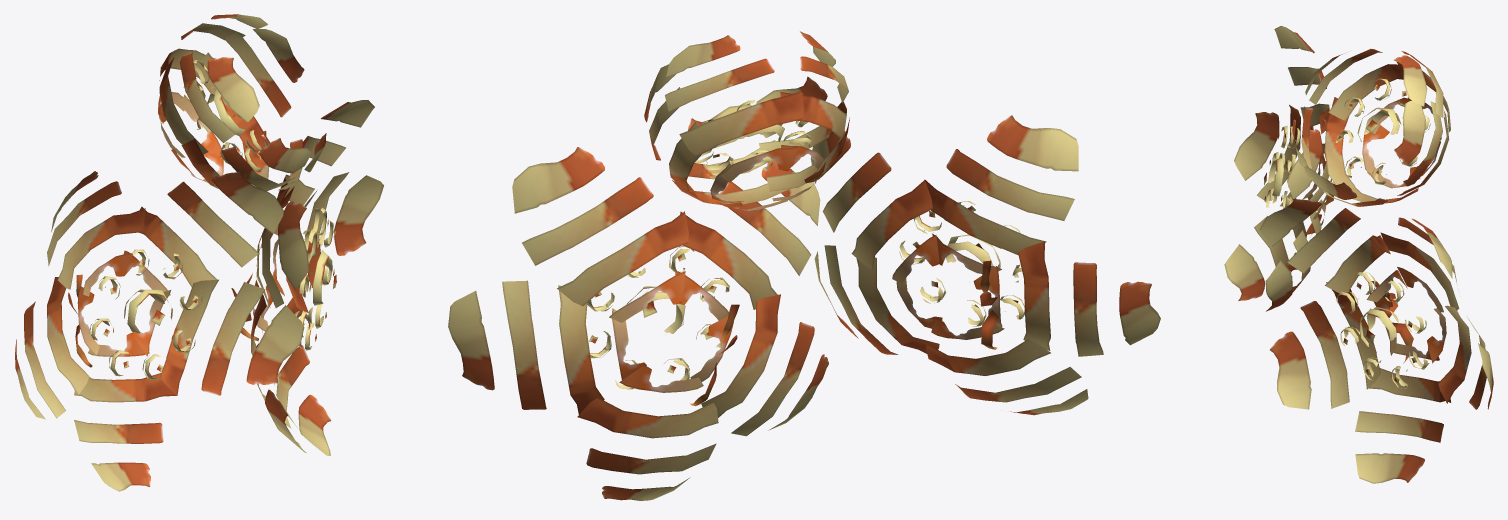
File: pm0470_00_Rig.fbx
3 renders of one model, left to right at view 1: azimuth 30°, elevation 25°; view 2: azimuth 150°, elevation 25°; view 3: azimuth 270°, elevation 25°, orthographic. The views are drawn at different scales.
Parts seen in each view (by area): view 1: doodad_spring_2023_flower; view 2: doodad_spring_2023_flower; view 3: doodad_spring_2023_flower.
Part boxes in pixels (x1,y1,x2,y2): doodad_spring_2023_flower: (15,14,383,491); doodad_spring_2023_flower: (448,31,1160,500); doodad_spring_2023_flower: (1224,26,1493,483).
Size of the model in its own units: 0.1177 by 0.098 by 0.063.
